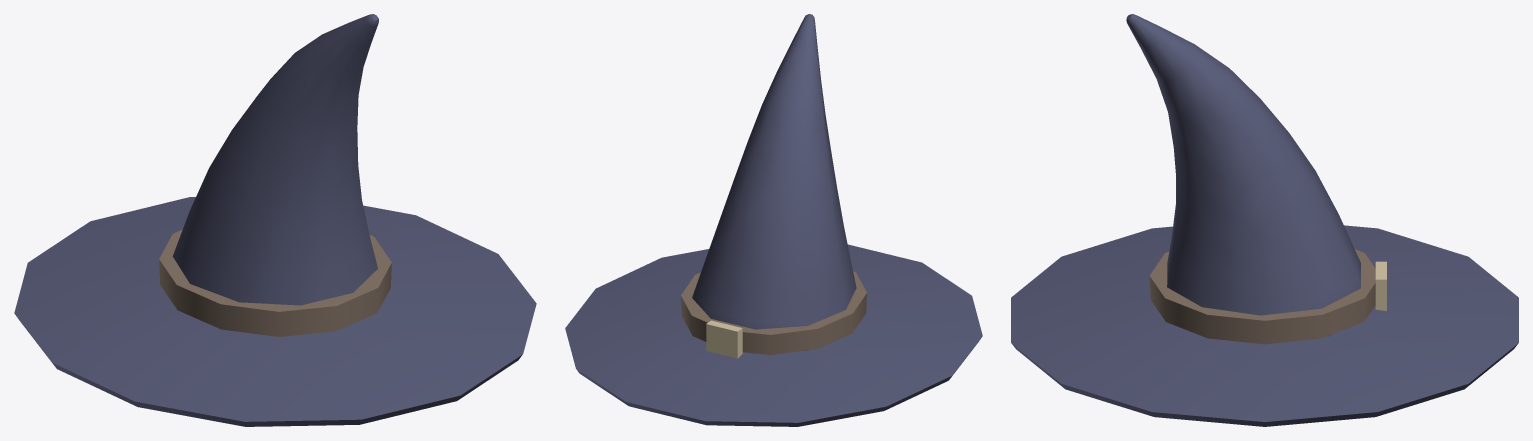
Rendered from pointed_hat.gltf.
The picture shows the model from 3 angles, left to right: view 1: azimuth 30°, elevation 25°; view 2: azimuth 150°, elevation 25°; view 3: azimuth 270°, elevation 25°; orthographic projection. The views are drawn at different scales.
Visible parts, largest first — view 1: Body; view 2: Body; view 3: Body.
Boxes of the visible parts, left/top/right/bottom form: Body: left=14, top=14, right=536, bottom=426; Body: left=565, top=14, right=982, bottom=426; Body: left=1011, top=14, right=1518, bottom=426.
Size of the model in its own units: 0.51 by 0.4556 by 0.537.
